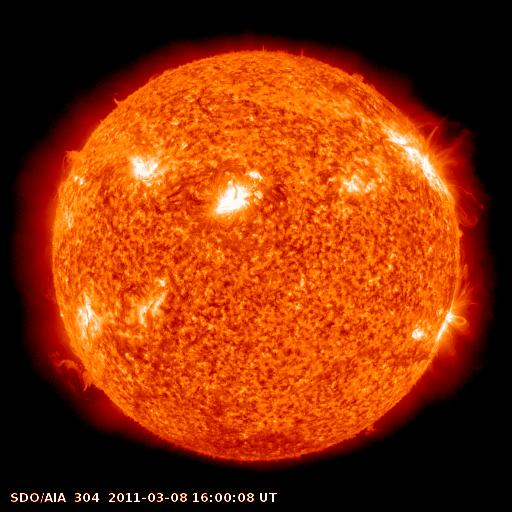prominence: (409, 103, 494, 233), (33, 340, 111, 408), (446, 256, 489, 314), (52, 132, 90, 197), (336, 59, 380, 97), (352, 413, 390, 448), (102, 85, 132, 121)
